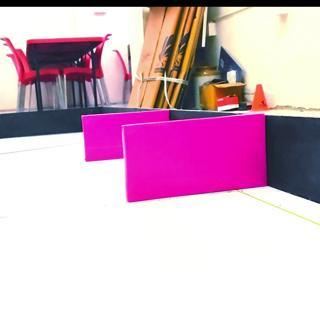xparking: (123, 126, 266, 200), (83, 115, 120, 158)
